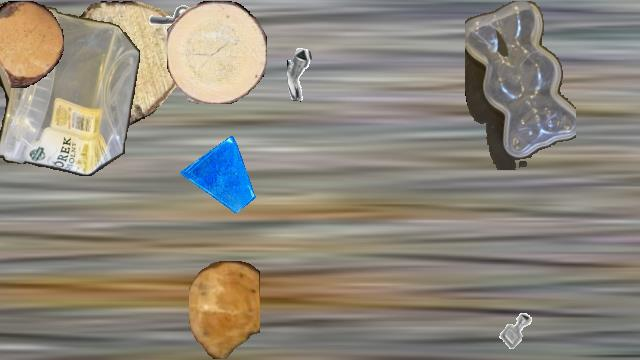glass: (180, 136, 256, 212)
metal: (134, 1, 196, 63), (287, 46, 343, 102), (491, 305, 541, 355)
plastic: (0, 1, 140, 175), (465, 1, 575, 169)
wood: (44, 1, 184, 127), (167, 1, 267, 103), (189, 261, 259, 359), (0, 1, 64, 87)
